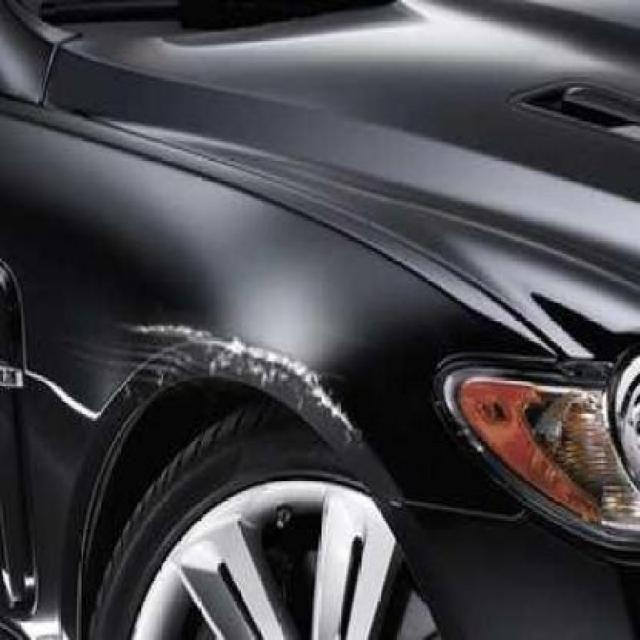scratch: (253, 341, 464, 436), (48, 296, 251, 382)
